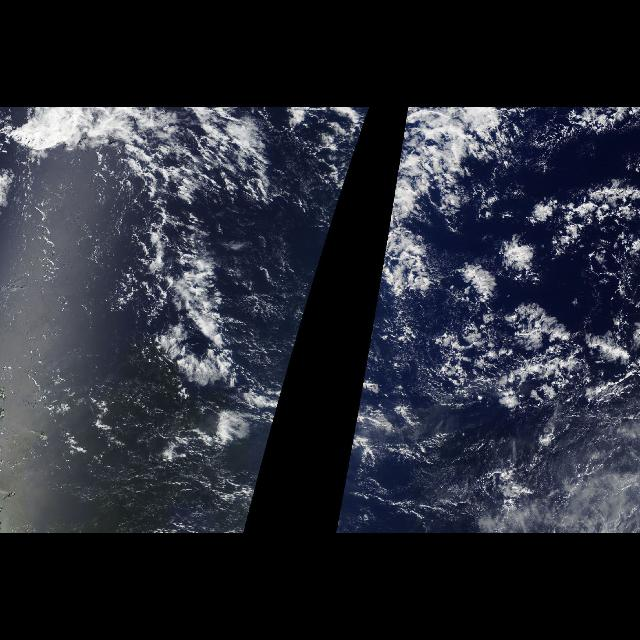Fish: (376, 111, 494, 305), (336, 112, 370, 215)
Gravel: (22, 162, 120, 384)
